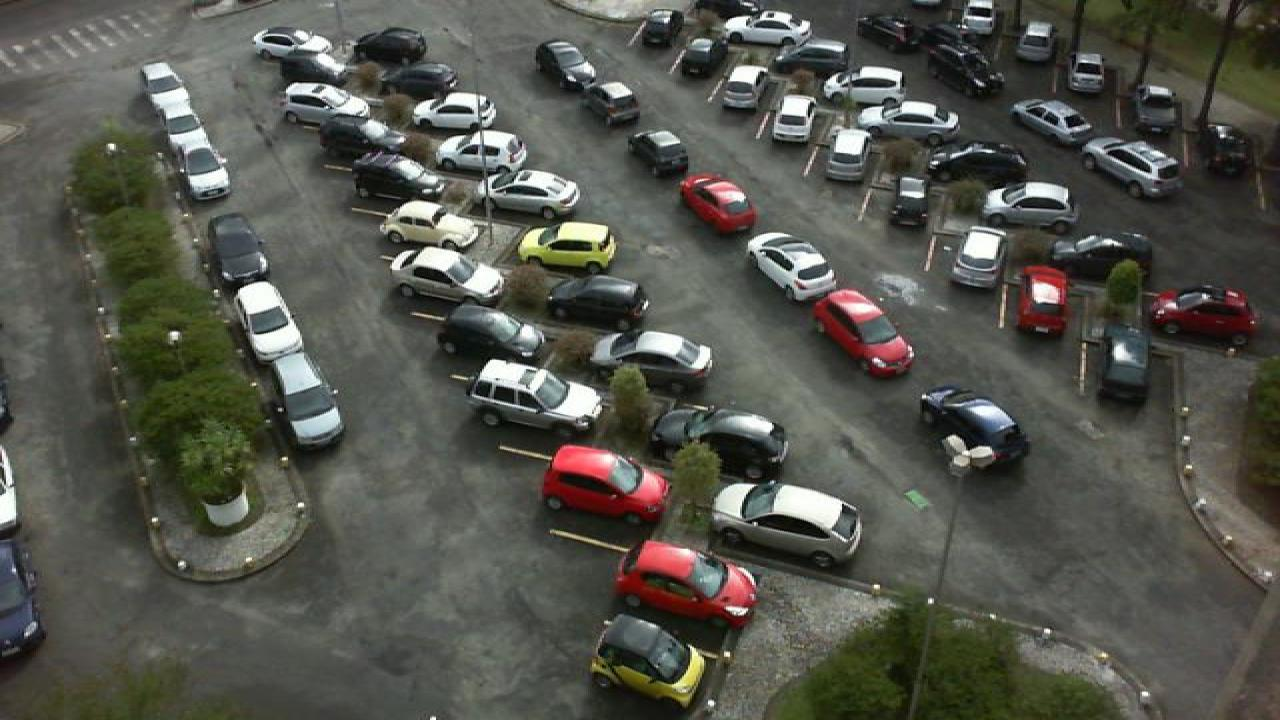Car: (712, 480, 866, 570), (614, 540, 760, 629), (588, 613, 714, 712), (650, 400, 790, 480), (464, 356, 604, 436), (542, 444, 674, 524), (812, 287, 916, 378), (920, 386, 1032, 470), (588, 328, 716, 392), (268, 352, 346, 450), (388, 246, 506, 308), (436, 302, 546, 364), (746, 232, 842, 302), (1150, 285, 1258, 344), (546, 272, 654, 330), (1082, 137, 1182, 199), (232, 279, 306, 361), (0, 540, 46, 660), (378, 199, 482, 252), (1048, 232, 1156, 281), (518, 222, 618, 274), (350, 150, 448, 202), (482, 168, 582, 218), (680, 172, 758, 236), (982, 181, 1080, 230), (206, 212, 268, 286), (436, 130, 530, 178), (314, 114, 408, 162), (1098, 323, 1154, 403), (924, 140, 1030, 182), (1014, 266, 1070, 340), (860, 100, 958, 142), (282, 81, 370, 126), (174, 135, 232, 201), (952, 225, 1008, 293), (1010, 98, 1092, 143), (930, 49, 1004, 98), (414, 92, 500, 133), (270, 45, 352, 87), (828, 65, 908, 108), (380, 61, 460, 102), (534, 38, 598, 89), (720, 10, 814, 44), (1198, 122, 1252, 178), (776, 37, 850, 77), (854, 14, 928, 54), (628, 130, 690, 176), (250, 27, 336, 60), (156, 94, 208, 148), (356, 27, 430, 64), (824, 126, 872, 182), (886, 173, 934, 227), (584, 81, 642, 125), (924, 21, 986, 62), (138, 61, 188, 110), (770, 95, 818, 145), (720, 66, 764, 109), (678, 36, 724, 76), (1016, 19, 1056, 63), (1066, 50, 1106, 94), (638, 8, 684, 46), (960, 0, 998, 35)
